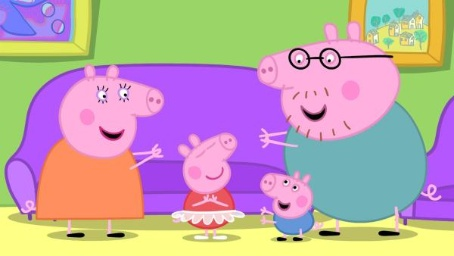Peppa: (175, 132, 248, 244)
